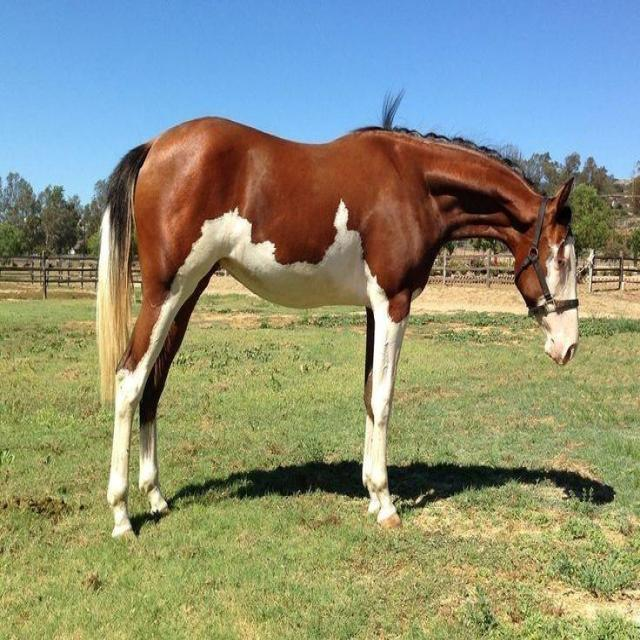horse: (95, 87, 580, 541)
